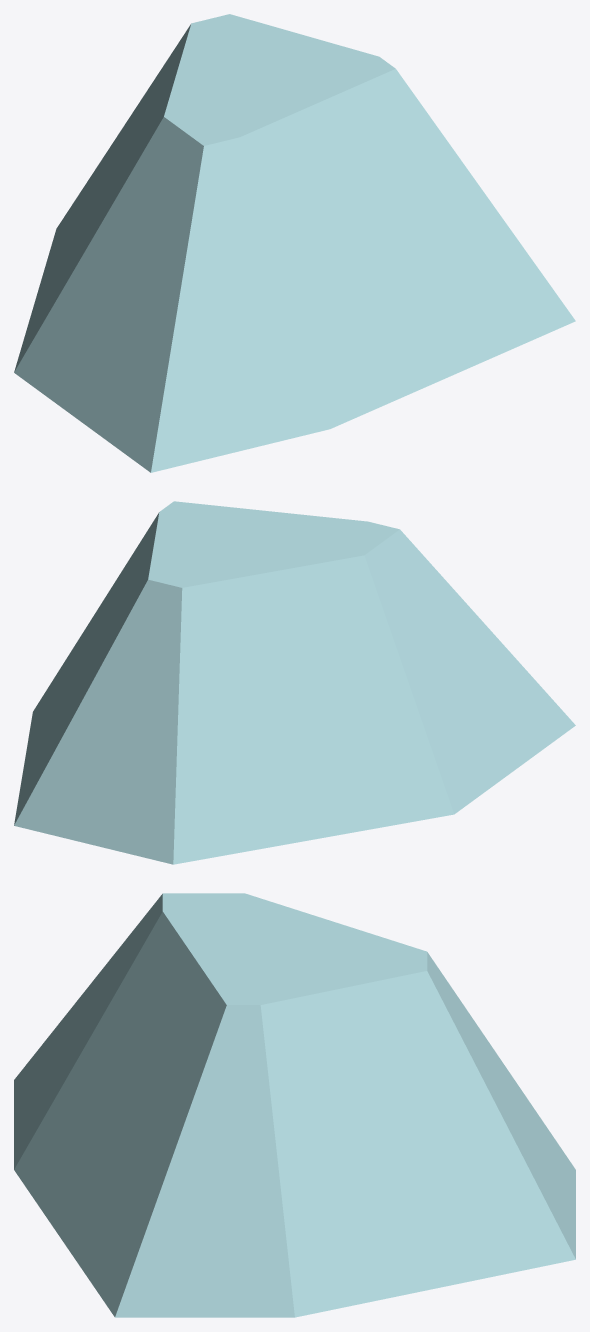
The model's file is stone_smallB.dae.
The picture shows the model from 3 angles, top to bottom: view 1: azimuth 30°, elevation 25°; view 2: azimuth 150°, elevation 25°; view 3: azimuth 270°, elevation 25°; orthographic projection. The views are drawn at different scales.
Parts seen in each view (by area): view 1: stone_smallB; view 2: stone_smallB; view 3: stone_smallB.
Part boxes in pixels (x1,y1,x2,y2): stone_smallB: (14,14,575,472); stone_smallB: (14,501,575,864); stone_smallB: (14,893,575,1317).
Size of the model in its own units: 0.3608 by 0.1768 by 0.3608.
